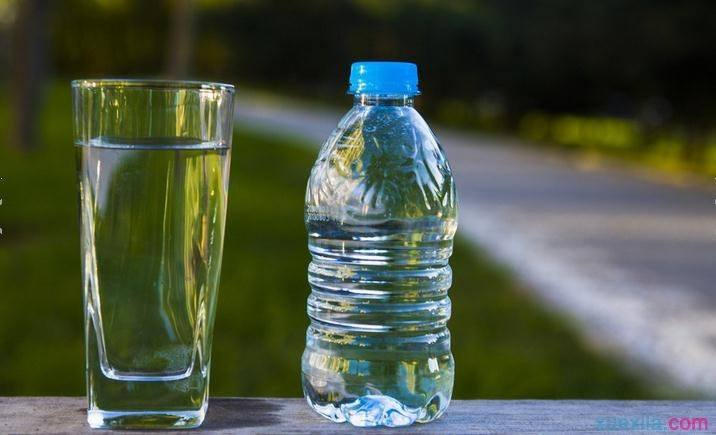amwater: (292, 43, 465, 433)
